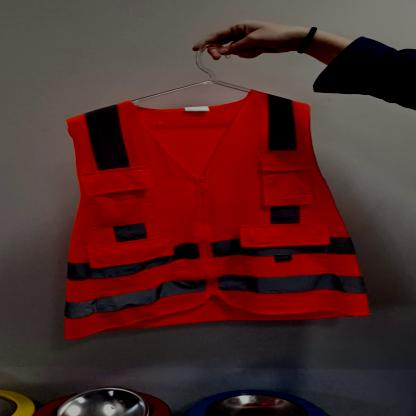colete: (51, 88, 381, 339)
